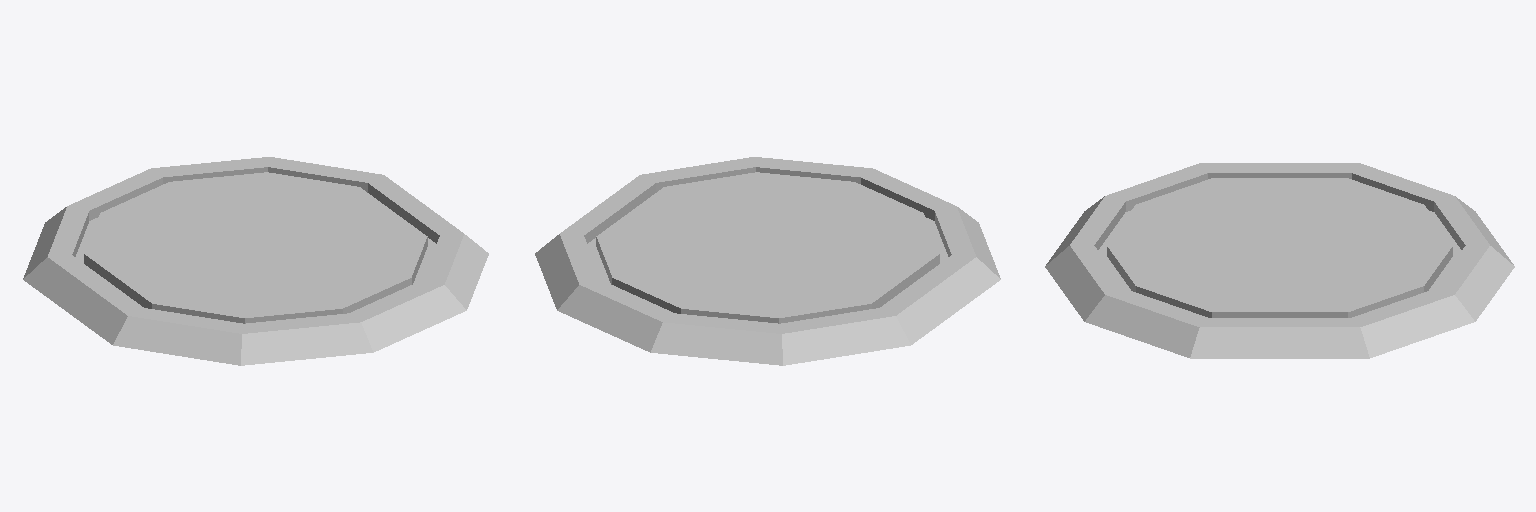
File: Plate.obj
3 views of the same model, side by side, from view 1: azimuth 30°, elevation 25°; view 2: azimuth 150°, elevation 25°; view 3: azimuth 270°, elevation 25° (orthographic).
Parts seen in each view (by area): view 1: Cylinder; view 2: Cylinder; view 3: Cylinder.
Part boxes in pixels (left/top/right/bottom): Cylinder: left=23, top=157, right=488, bottom=365; Cylinder: left=535, top=157, right=1000, bottom=365; Cylinder: left=1045, top=163, right=1514, bottom=358.
Size of the model in its own units: 1.85 by 0.1004 by 2.